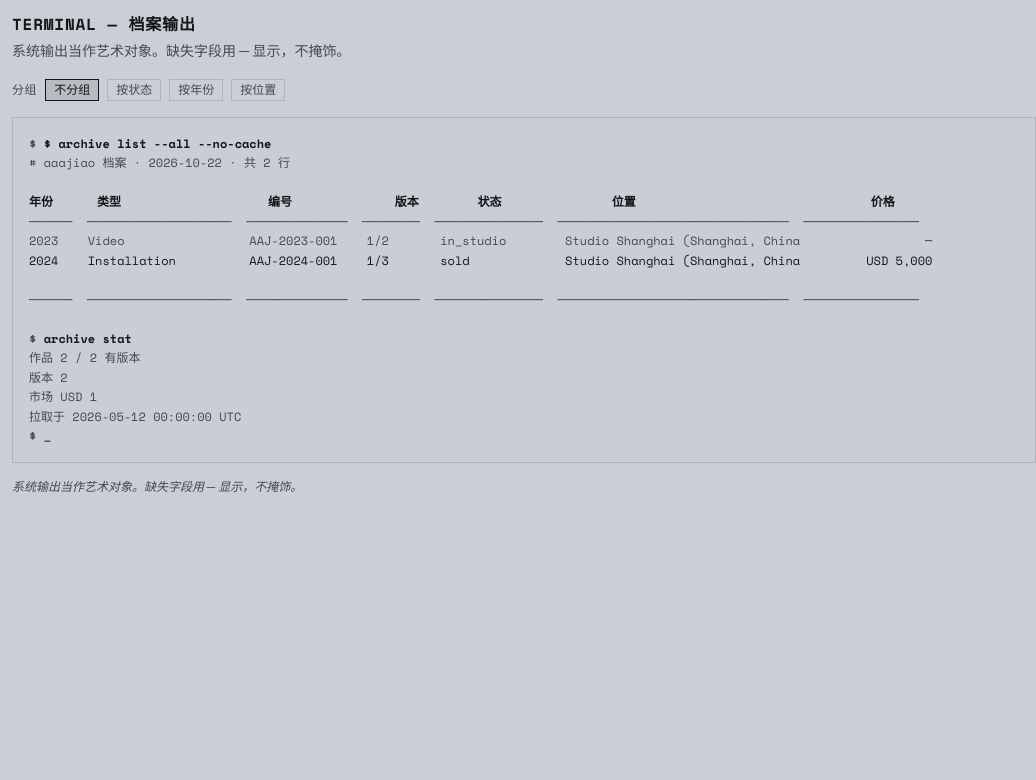
Test case: TerminalView a11y & responsive › 分组标题用 heading role 且装饰字符 aria-hidden
// 切到 by status —— 用精确匹配避免匹中数据行 aria-label 里的 "Status"
Click the button "按状态" at {"x": 134, "y": 90}, box [107,79,161,101]
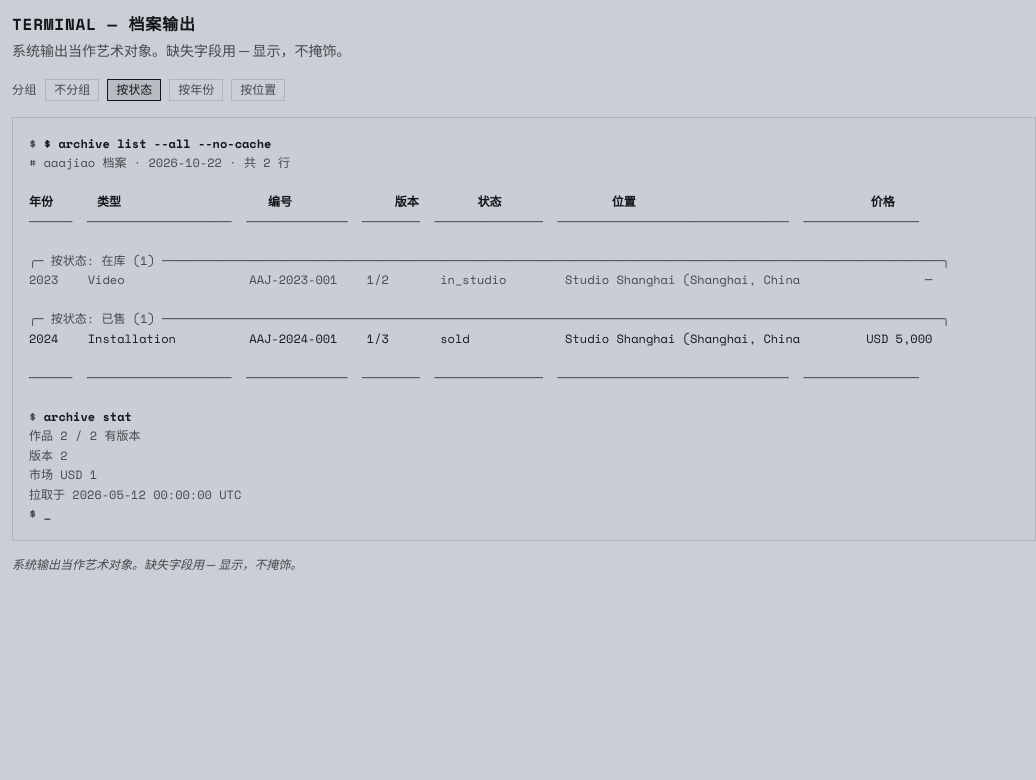
Expected: the heading named "按状态: 在库 (1)" is shown, [29,252,950,269]
Expected: the text "╭─" next to "按状态: 在库 (1)" is shown, [29,252,44,269]
